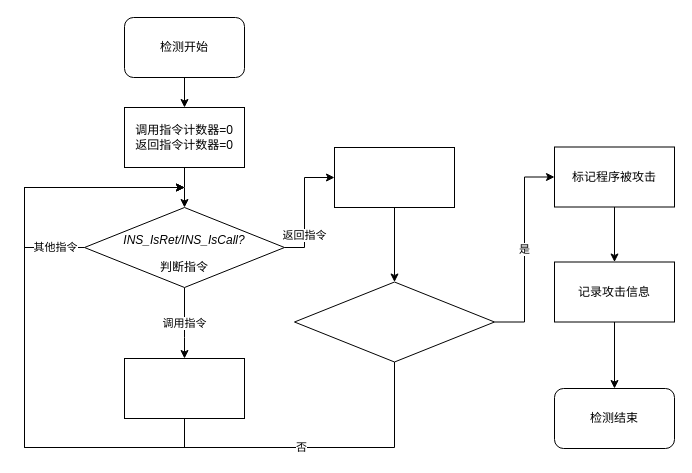
The diagram is 692 pixels wide and 473 high, and some of its shapes have lost their labels. The shapes that lost their labels are listed below. From the top down, each one's centre as x and y in pixels, then its label:
At (394,177): "返回指令计数器 +1".
At (394,321): "返回指令计数器 > 调用指令计数器 ?".
At (184,388): "调用指令计数器+1".
